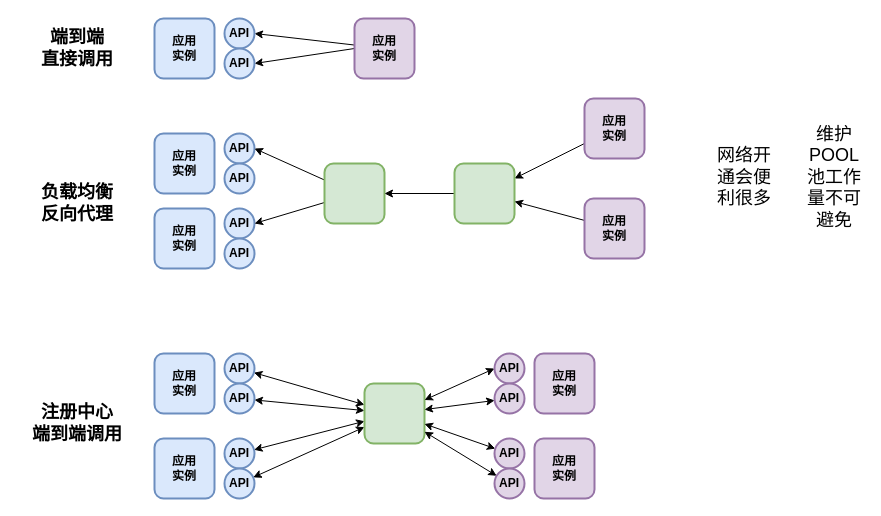
Some shapes in this 881 by 516 pixel diagram are drawn without their labels. The centre of each missing label's shape, as x and y in pixels:
"反向 代理" goes at point 484,193.
"注册中心" goes at point 394,413.
"负载 均衡" goes at point 354,193.
